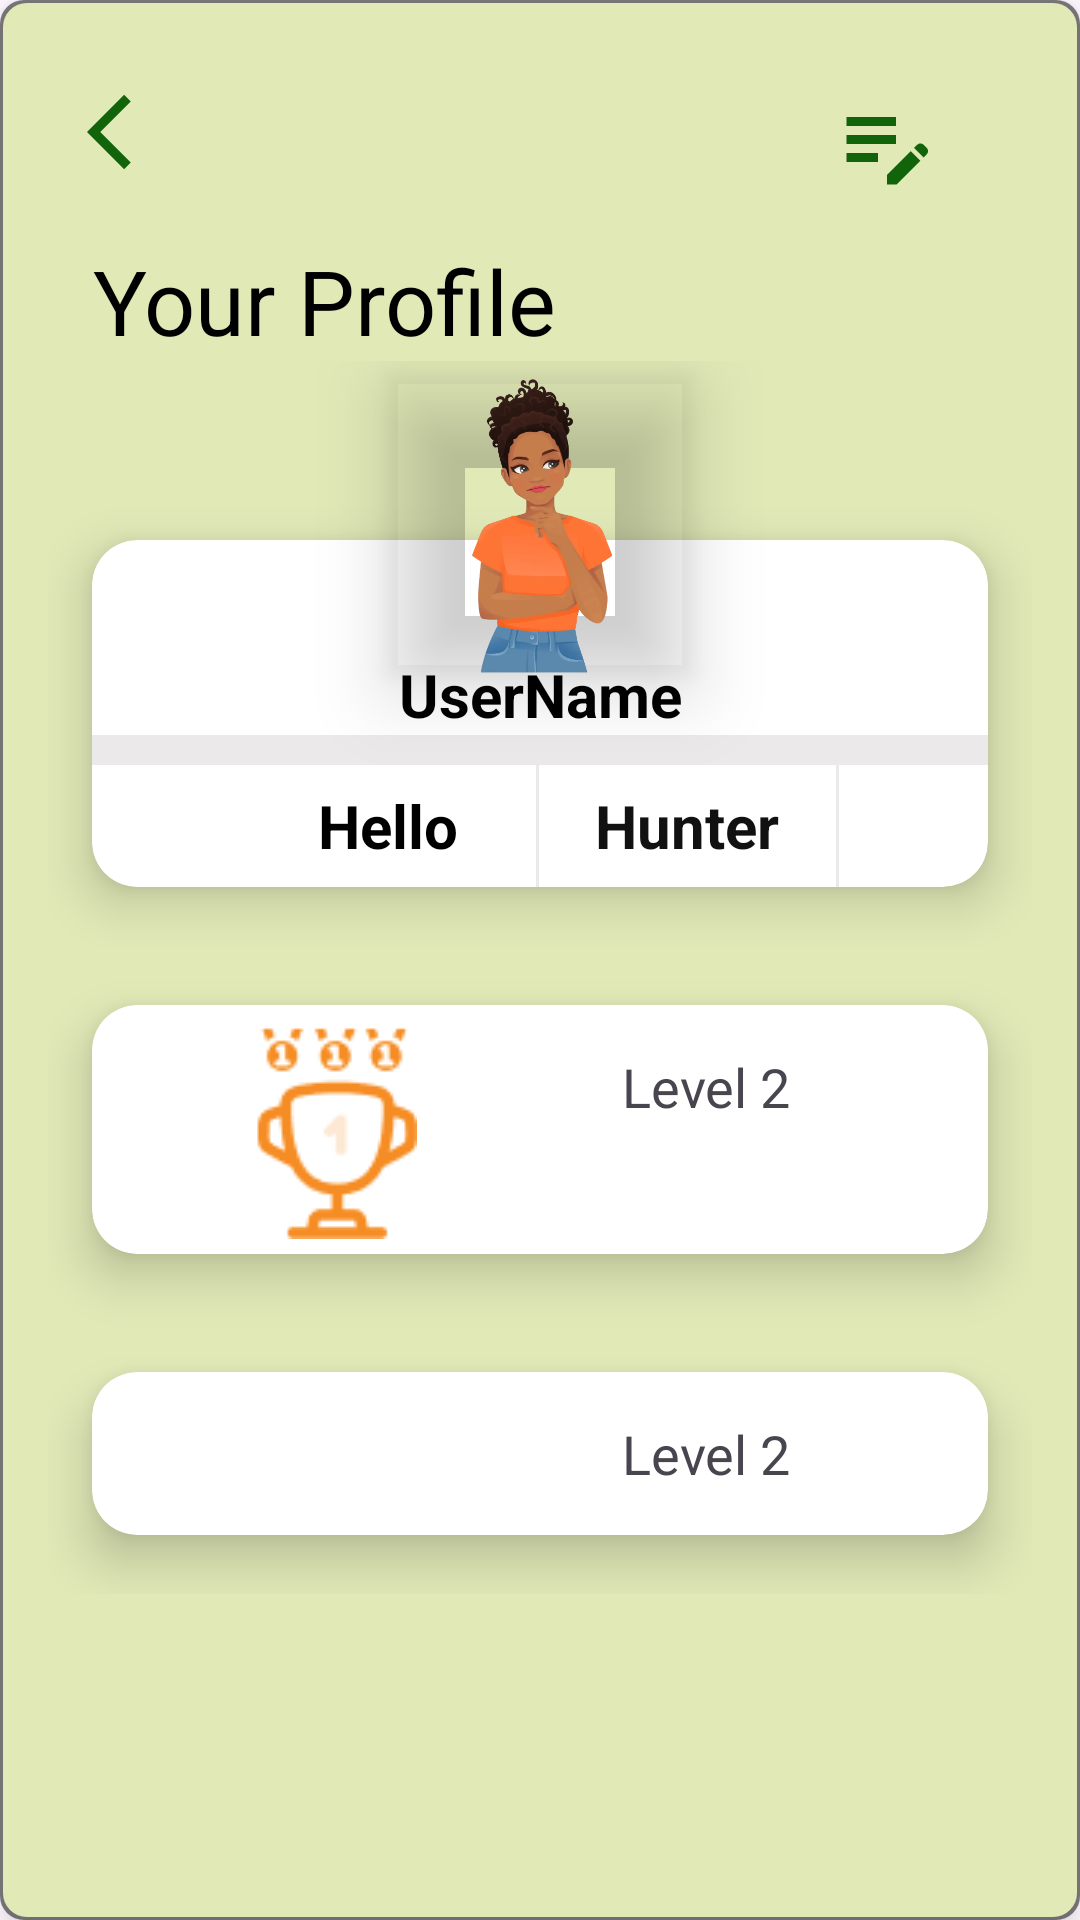

Icons on this 1080*1920 Android screen, each with the point to tap as (x,y):
back: (109,132)
edit: (887,151)
trophyone: (337,1133)
